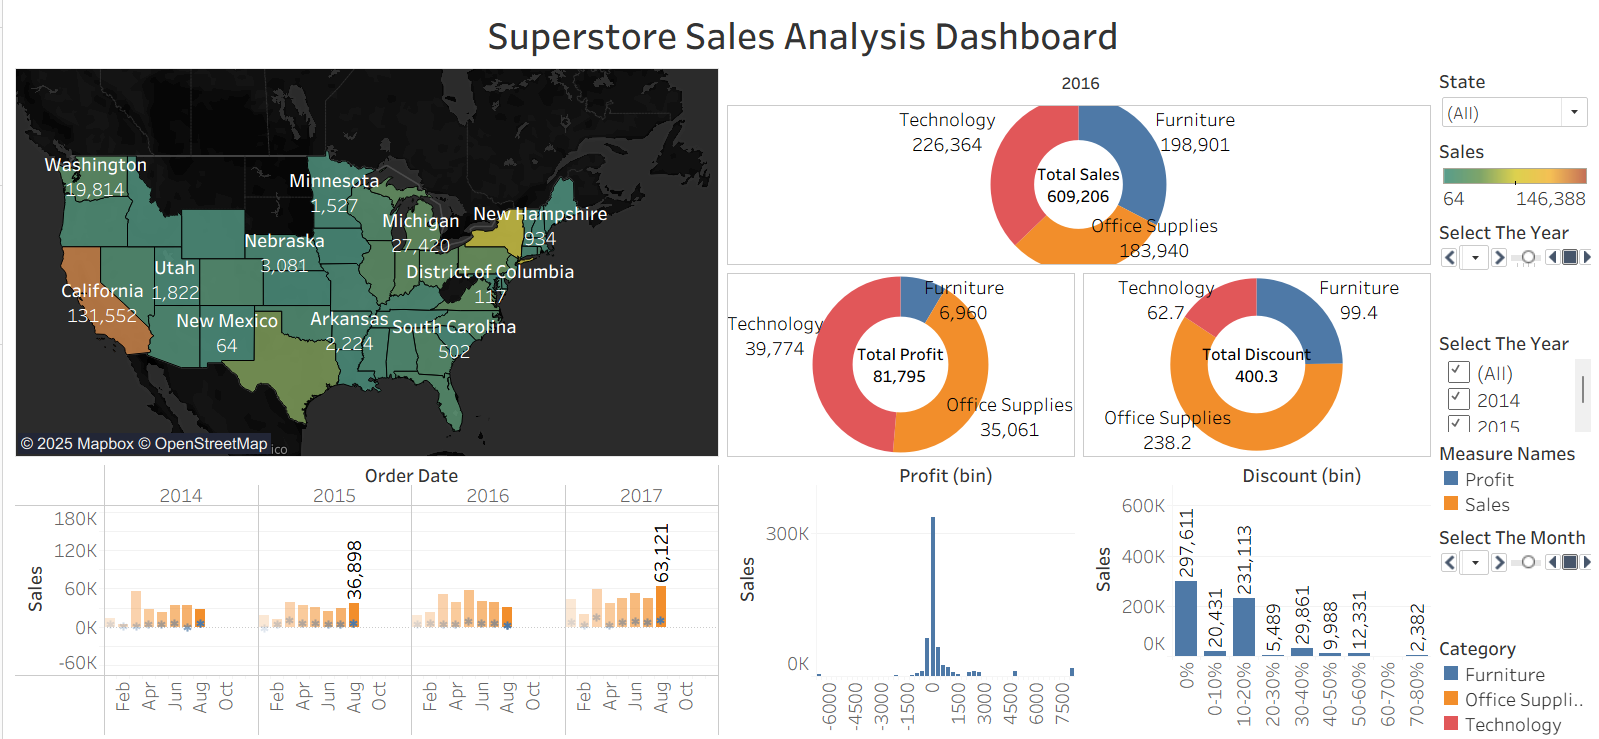

The page's visual inventory and layout, read from the dashboard file:
{"tool":"tableau","page":{"name":"Dashboard 1","canvas":[1600,800],"ordinal":0},"visuals":[{"type":"title","box":[8,8,1584,58]},{"type":"worksheet","title":"Overall Sales","mark":"Automatic","box":[8,66,712,384.3]},{"type":"worksheet","title":"Sales Info","mark":"Pie","rows":["Calculation_1023443056325402625","Calculation_1023443056325402625"],"box":[720,66,712,205.6]},{"type":"filter","title":"Overall Sales","param":"[federated.1fw8eaz0mijhvq1eck3t00ij9yqq].[none:State:nk]","box":[1432,66,160,70]},{"type":"legend","title":"Overall Sales","param":"[federated.1fw8eaz0mijhvq1eck3t00ij9yqq].[sum:Sales:qk]","box":[1432,136,160,81]},{"type":"currpage","title":"Overall Sales","box":[1432,217,160,127.3]},{"type":"worksheet","title":"Profit Info","mark":"Pie","rows":["Calculation_1023443056325402625","Calculation_1023443056325402625"],"box":[720,271.6,356,178.7]},{"type":"worksheet","title":"Discount Info","mark":"Pie","rows":["Calculation_1023443056325402625","Calculation_1023443056325402625"],"box":[1076,271.6,356,178.7]},{"type":"filter","title":"Sales Vs Profit","param":"[federated.1fw8eaz0mijhvq1eck3t00ij9yqq].[yr:Order Date:ok]","box":[1432,344.3,160,127.3]},{"type":"worksheet","title":"Sales Vs Profit","mark":"Automatic","rows":["Sales","Profit"],"cols":["Order Date","Order Date"],"box":[8,450.3,712,341.7]},{"type":"worksheet","title":"Profit Distribution","mark":"Automatic","rows":["Sales"],"cols":["Profit (bin)"],"box":[720,450.3,356,341.7]},{"type":"worksheet","title":"Discount Distribution","mark":"Automatic","rows":["Sales"],"cols":["Discount (bin)"],"box":[1076,450.3,356,341.7]},{"type":"legend","title":"Sales Vs Profit","param":"[federated.1fw8eaz0mijhvq1eck3t00ij9yqq].[:Measure Names]","box":[1432,471.7,160,84]},{"type":"currpage","title":"Sales Vs Profit","box":[1432,555.7,160,127.3]},{"type":"legend","title":"Sales Info","param":"[federated.1fw8eaz0mijhvq1eck3t00ij9yqq].[none:Category:nk]","box":[1432,683,160,109]}]}

Visuals, with their boxes on the page's 1600x800 design canvas (x1, y1, x2, y2). These are canvas units, not pixel positions in the 1599x739 screenshot, which may show the page scaled, cropped or inside an application window:
title: Rect(8, 8, 1592, 66)
"Overall Sales" worksheet: Rect(8, 66, 720, 450)
"Sales Info" worksheet (Pie marks): Rect(720, 66, 1432, 272)
"Overall Sales" filter: Rect(1432, 66, 1592, 136)
"Overall Sales" legend: Rect(1432, 136, 1592, 217)
"Overall Sales" currpage: Rect(1432, 217, 1592, 344)
"Profit Info" worksheet (Pie marks): Rect(720, 272, 1076, 450)
"Discount Info" worksheet (Pie marks): Rect(1076, 272, 1432, 450)
"Sales Vs Profit" filter: Rect(1432, 344, 1592, 472)
"Sales Vs Profit" worksheet: Rect(8, 450, 720, 792)
"Profit Distribution" worksheet: Rect(720, 450, 1076, 792)
"Discount Distribution" worksheet: Rect(1076, 450, 1432, 792)
"Sales Vs Profit" legend: Rect(1432, 472, 1592, 556)
"Sales Vs Profit" currpage: Rect(1432, 556, 1592, 683)
"Sales Info" legend: Rect(1432, 683, 1592, 792)
